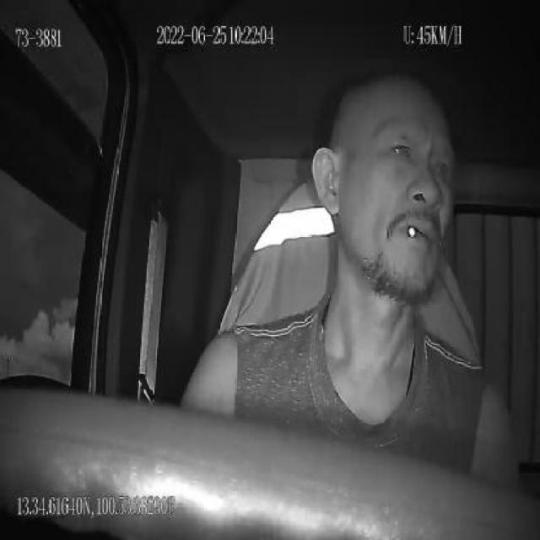smoking: (408, 226, 415, 240)
